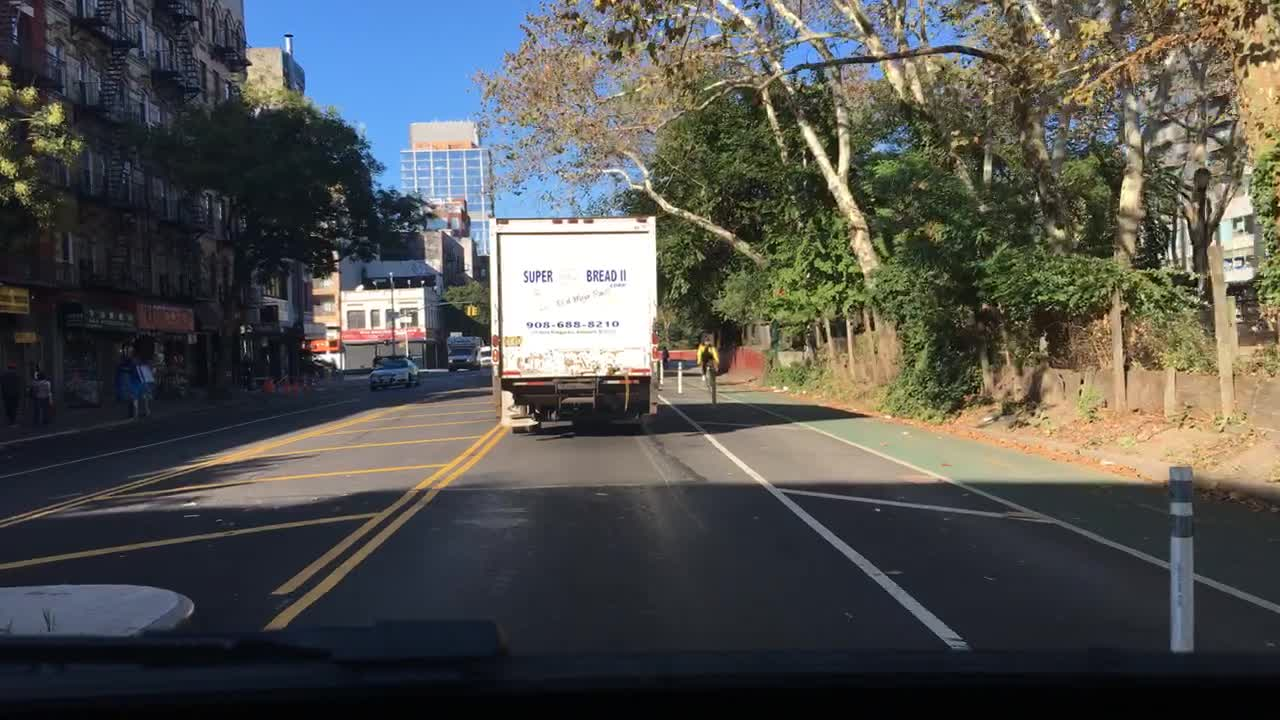bike: (701, 360, 715, 384)
bus: (696, 332, 720, 371)
car: (365, 354, 422, 391), (310, 357, 345, 383), (476, 343, 492, 366)
person: (0, 357, 26, 429), (30, 366, 55, 430), (22, 371, 41, 427), (238, 350, 255, 396), (656, 343, 671, 372), (701, 346, 714, 374)
traffic light: (462, 303, 470, 318), (472, 303, 478, 320)
traffic sign: (397, 314, 412, 323)
truck: (485, 211, 661, 435), (445, 333, 482, 373)
